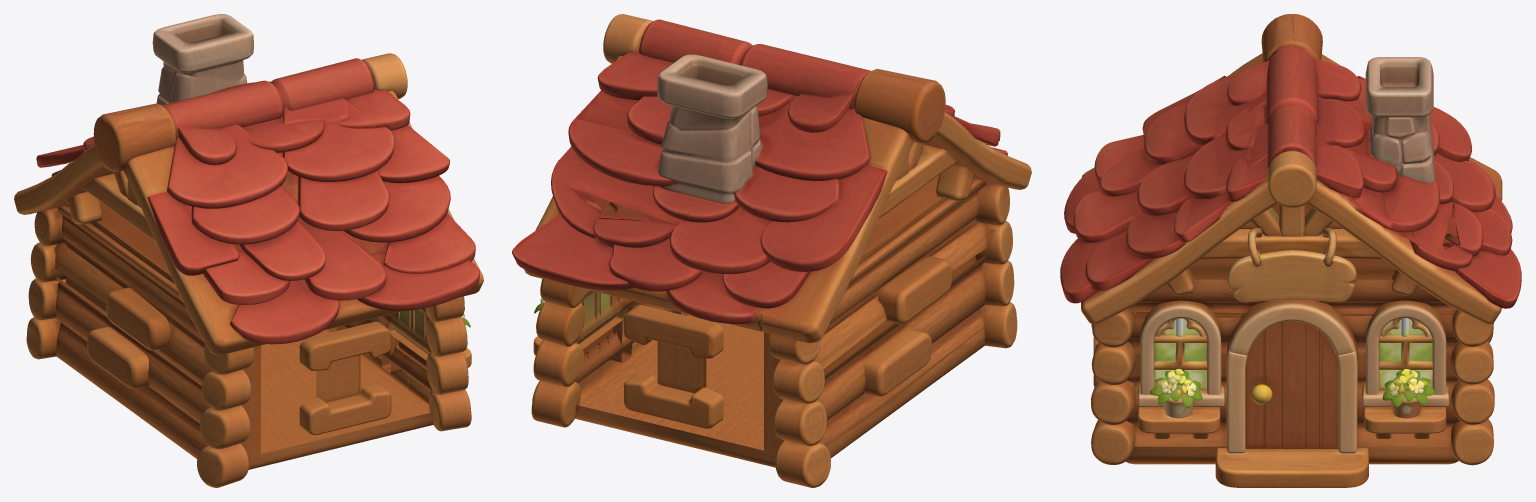
Rendered from C01_bld_cottage.fbx.
3 renders of one model, left to right at view 1: azimuth 30°, elevation 25°; view 2: azimuth 150°, elevation 25°; view 3: azimuth 270°, elevation 25°, orthographic. The views are drawn at different scales.
Visible parts, largest first — view 1: tripo_node_c986d04b; view 2: tripo_node_c986d04b; view 3: tripo_node_c986d04b.
Part boxes in pixels (x1,y1,x2,y2): tripo_node_c986d04b: [14, 14, 483, 487]; tripo_node_c986d04b: [512, 14, 1031, 487]; tripo_node_c986d04b: [1060, 14, 1521, 487].
Size of the model in its own units: 0.8062 by 0.7935 by 0.9995.
